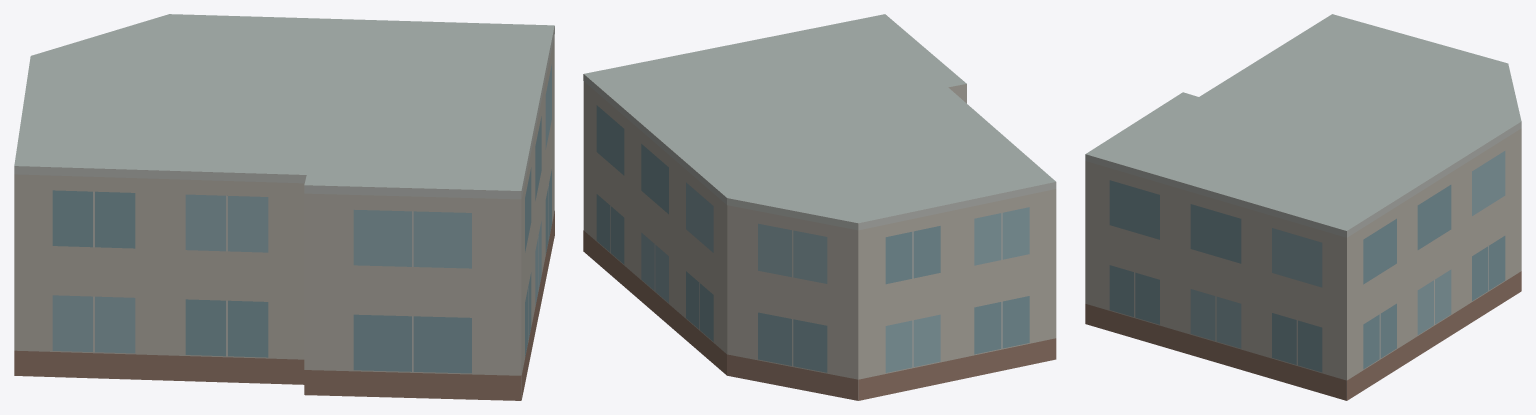
Rendered from survey-upis-32970908.glb.
3 renders of one model, left to right at view 1: azimuth 30°, elevation 25°; view 2: azimuth 150°, elevation 25°; view 3: azimuth 270°, elevation 25°, orthographic. The views are drawn at different scales.
Parts seen in each view (by area): view 1: survey-upis-32970908.tmp; view 2: survey-upis-32970908.tmp; view 3: survey-upis-32970908.tmp.
Boxes of the visible parts, <box> form: survey-upis-32970908.tmp: <box>14,14,554,400</box>; survey-upis-32970908.tmp: <box>583,14,1056,400</box>; survey-upis-32970908.tmp: <box>1085,14,1521,400</box>.
Bounding box in the file's own units: 16.73 × 6.1 × 14.21.
